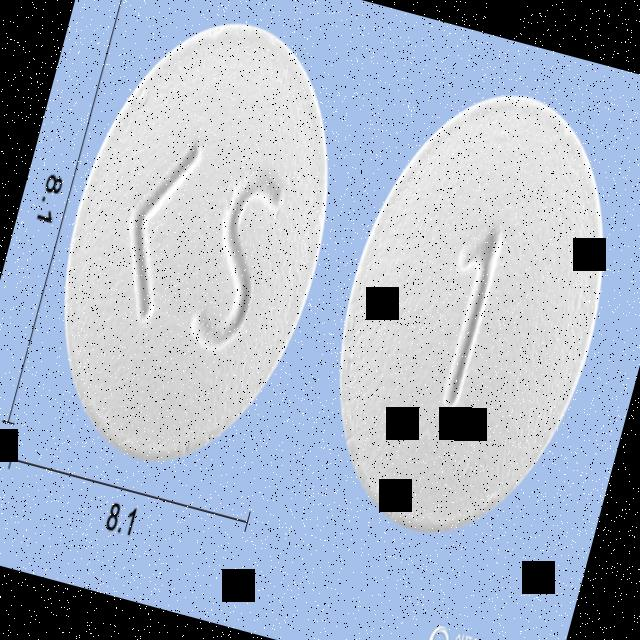Levofxa: (18, 0, 375, 494), (295, 62, 640, 561)
